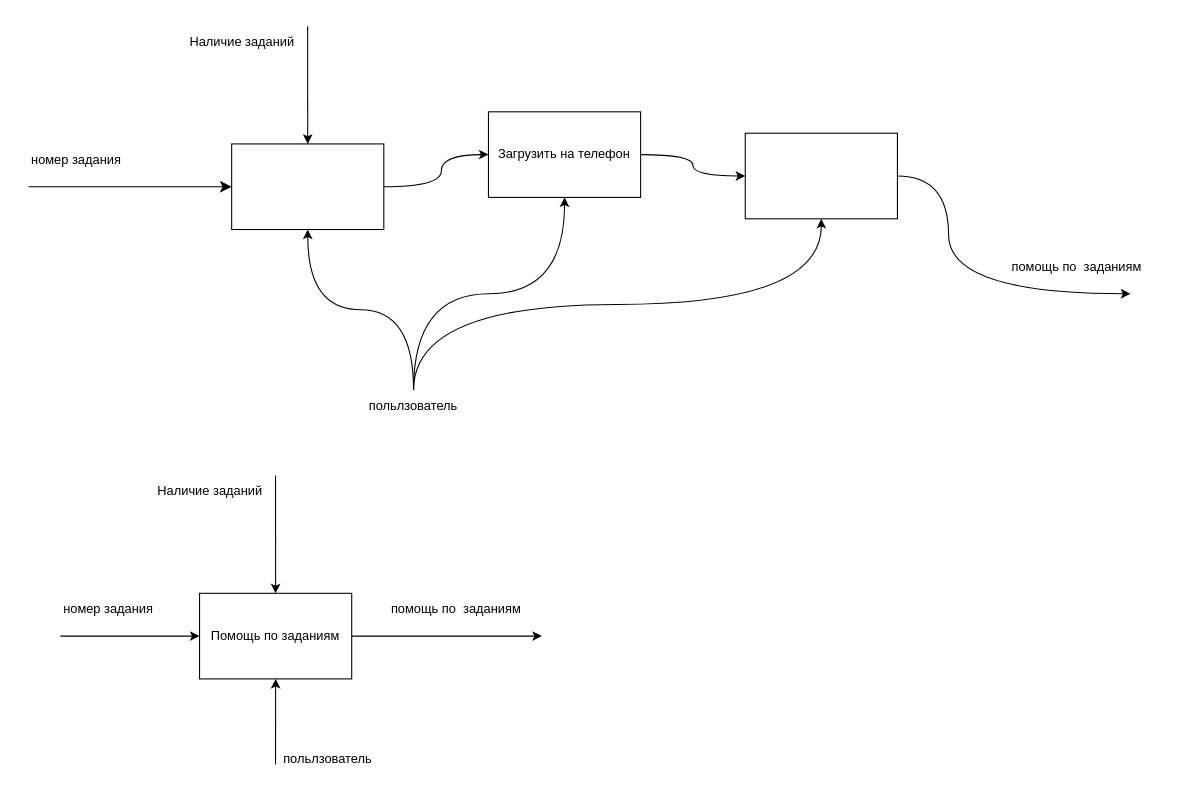
Some shapes in this 1181 by 794 pixel diagram are drawn without their labels. Here are the shapes that lost their labels. From the top down, the centre of each, then its label:
(x=307, y=186): Выбор заданий
(x=820, y=175): Нажать на кнопку "Смотреть"
